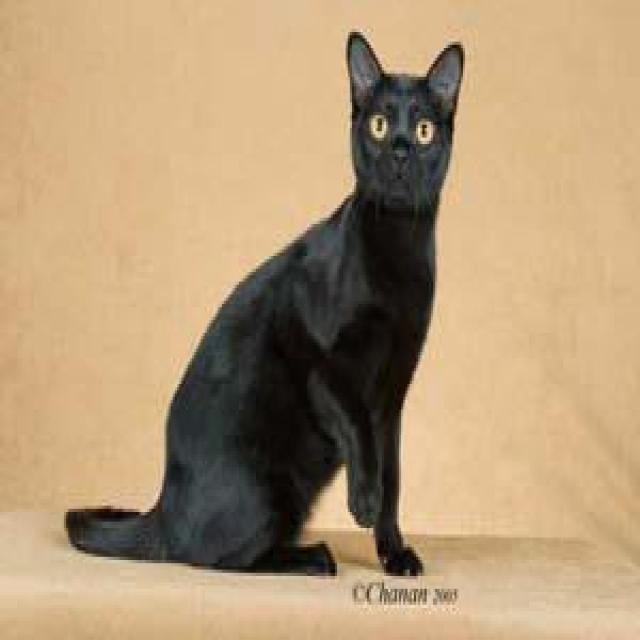cat: (64, 28, 465, 580)
